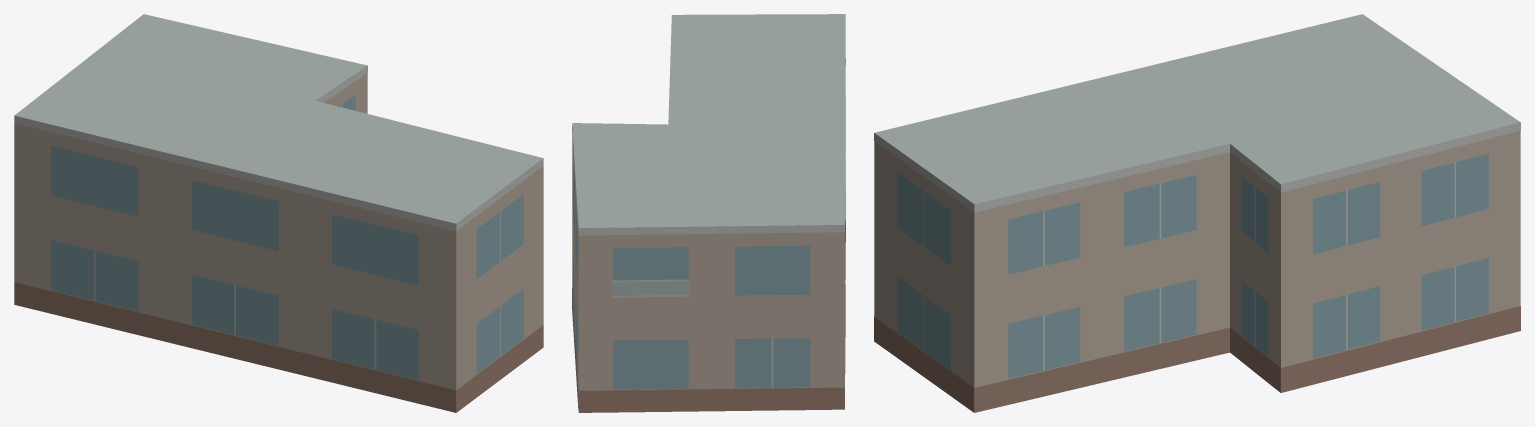
File: survey-upis-32766267.glb
3 renders of one model, left to right at view 1: azimuth 30°, elevation 25°; view 2: azimuth 150°, elevation 25°; view 3: azimuth 270°, elevation 25°, orthographic. The views are drawn at different scales.
Visible parts, largest first — view 1: survey-upis-32766267.tmp; view 2: survey-upis-32766267.tmp; view 3: survey-upis-32766267.tmp.
Boxes of the visible parts, <box> form: survey-upis-32766267.tmp: <box>14,14,543,412</box>; survey-upis-32766267.tmp: <box>572,14,845,412</box>; survey-upis-32766267.tmp: <box>874,14,1520,412</box>.
Bounding box in the file's own units: 11.94 × 6.1 × 17.14.
